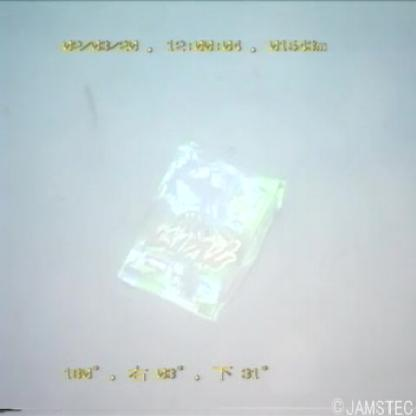Rác: (102, 132, 296, 330)
